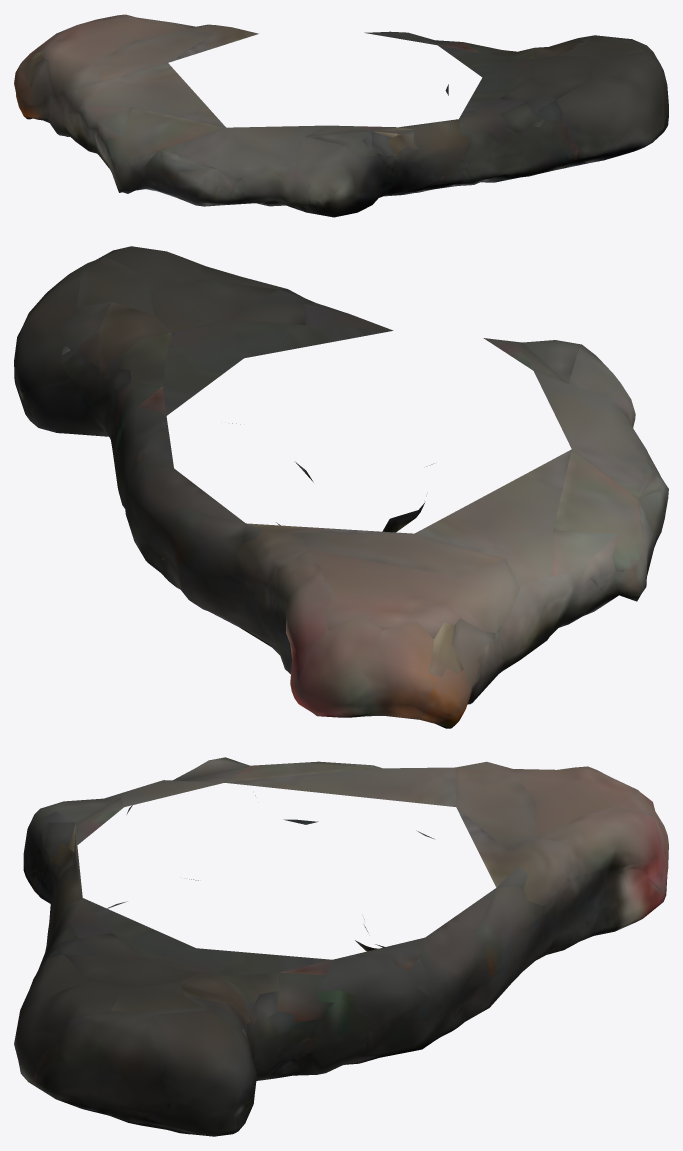
File: hall.glb
3 renders of one model, top to bottom at view 1: azimuth 30°, elevation 25°; view 2: azimuth 150°, elevation 25°; view 3: azimuth 270°, elevation 25°, orthographic. The views are drawn at different scales.
Bounding box in the file's own units: 0.7942 × 0.1831 × 0.6862.
Materials: 1 (1 with a texture image).
